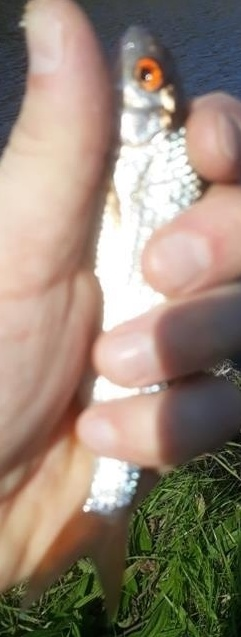Rutilus rutilus: (20, 20, 221, 617)
